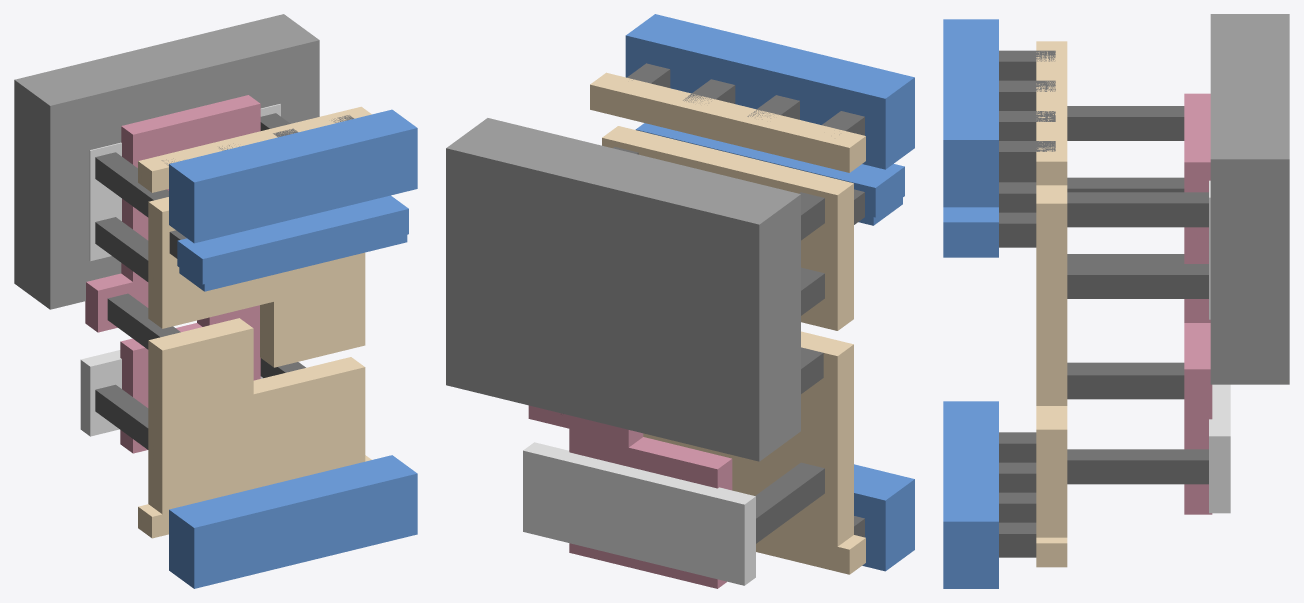
Rendered from sky130_fd_sc_hd__lpflow_decapkapwr_4.gds.gltf.
3 views of the same model, side by side, from view 1: azimuth 30°, elevation 25°; view 2: azimuth 150°, elevation 25°; view 3: azimuth 270°, elevation 25° (orthographic). The views are drawn at different scales.
Parts seen in each view (by area): view 1: sky130_fd_sc_hd__lpflow_decapkapwr_4_met1, sky130_fd_sc_hd__lpflow_decapkapwr_4_li1, sky130_fd_sc_hd__lpflow_decapkapwr_4_nwell, sky130_fd_sc_hd__lpflow_decapkapwr_4_poly, sky130_fd_sc_hd__lpflow_decapkapwr_4_licon, sky130_fd_sc_hd__lpflow_decapkapwr_4_diff, sky130_fd_sc_hd__lpflow_decapkapwr_4_mcon; view 2: sky130_fd_sc_hd__lpflow_decapkapwr_4_nwell, sky130_fd_sc_hd__lpflow_decapkapwr_4_li1, sky130_fd_sc_hd__lpflow_decapkapwr_4_met1, sky130_fd_sc_hd__lpflow_decapkapwr_4_diff, sky130_fd_sc_hd__lpflow_decapkapwr_4_poly, sky130_fd_sc_hd__lpflow_decapkapwr_4_licon, sky130_fd_sc_hd__lpflow_decapkapwr_4_mcon; view 3: sky130_fd_sc_hd__lpflow_decapkapwr_4_nwell, sky130_fd_sc_hd__lpflow_decapkapwr_4_licon, sky130_fd_sc_hd__lpflow_decapkapwr_4_met1, sky130_fd_sc_hd__lpflow_decapkapwr_4_li1, sky130_fd_sc_hd__lpflow_decapkapwr_4_mcon, sky130_fd_sc_hd__lpflow_decapkapwr_4_poly, sky130_fd_sc_hd__lpflow_decapkapwr_4_diff.
Boxes of the visible parts, x1,y1,x2,y2 form: sky130_fd_sc_hd__lpflow_decapkapwr_4_met1: (169,109,417,588); sky130_fd_sc_hd__lpflow_decapkapwr_4_li1: (138,106,371,538); sky130_fd_sc_hd__lpflow_decapkapwr_4_nwell: (14,14,319,309); sky130_fd_sc_hd__lpflow_decapkapwr_4_poly: (85,95,260,453); sky130_fd_sc_hd__lpflow_decapkapwr_4_licon: (95,113,305,449); sky130_fd_sc_hd__lpflow_decapkapwr_4_diff: (80,104,280,436); sky130_fd_sc_hd__lpflow_decapkapwr_4_mcon: (161,115,353,258); sky130_fd_sc_hd__lpflow_decapkapwr_4_nwell: (446,118,800,461); sky130_fd_sc_hd__lpflow_decapkapwr_4_li1: (590,72,865,574); sky130_fd_sc_hd__lpflow_decapkapwr_4_met1: (625,14,914,571); sky130_fd_sc_hd__lpflow_decapkapwr_4_diff: (523,442,755,585); sky130_fd_sc_hd__lpflow_decapkapwr_4_poly: (528,405,732,588); sky130_fd_sc_hd__lpflow_decapkapwr_4_licon: (561,147,824,543); sky130_fd_sc_hd__lpflow_decapkapwr_4_mcon: (627,63,864,537); sky130_fd_sc_hd__lpflow_decapkapwr_4_nwell: (1210,14,1289,384); sky130_fd_sc_hd__lpflow_decapkapwr_4_licon: (1067,106,1208,484); sky130_fd_sc_hd__lpflow_decapkapwr_4_met1: (943,19,998,588); sky130_fd_sc_hd__lpflow_decapkapwr_4_li1: (1036,41,1067,567); sky130_fd_sc_hd__lpflow_decapkapwr_4_mcon: (999,50,1055,557); sky130_fd_sc_hd__lpflow_decapkapwr_4_poly: (1184,93,1212,514); sky130_fd_sc_hd__lpflow_decapkapwr_4_diff: (1209,180,1230,513).
Size of the model in its own units: 2.22 by 3.2 by 2.24.
